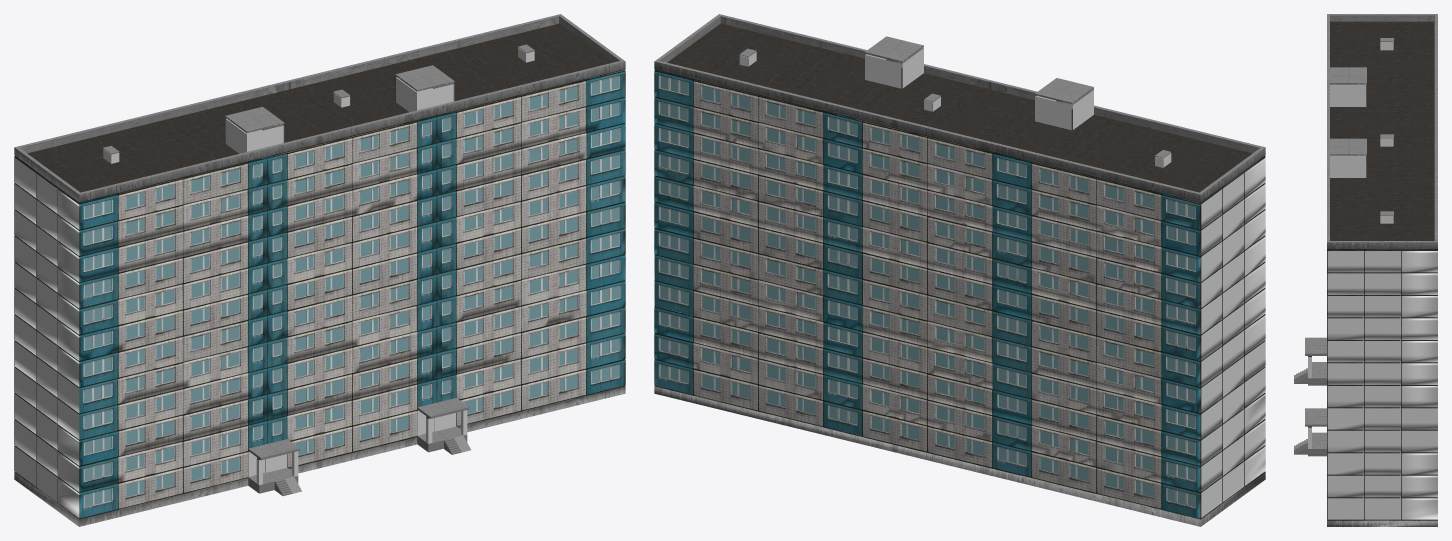
File: dom_03.glb
The picture shows the model from 3 angles, left to right: view 1: azimuth 30°, elevation 25°; view 2: azimuth 150°, elevation 25°; view 3: azimuth 270°, elevation 25°; orthographic projection. The views are drawn at different scales.
Parts seen in each view (by area): view 1: v1.031; view 2: v1.031; view 3: v1.031.
Boxes of the visible parts, <box> form: v1.031: <box>14,14,625,526</box>; v1.031: <box>654,14,1265,526</box>; v1.031: <box>1294,14,1437,526</box>.
Bounding box in the file's own units: 62.75 × 38.72 × 16.7.
Materials: 6 (3 with a texture image).
